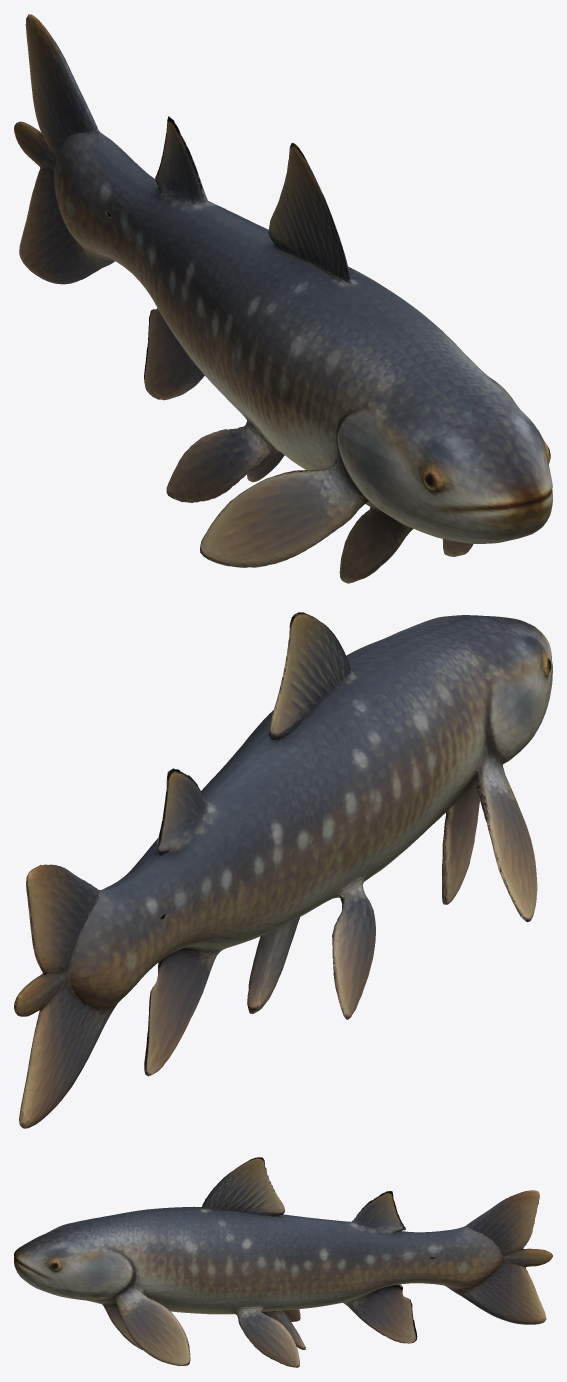
The picture shows the model from 3 angles, top to bottom: view 1: azimuth 30°, elevation 25°; view 2: azimuth 150°, elevation 25°; view 3: azimuth 270°, elevation 25°; orthographic projection. The views are drawn at different scales.
Visible parts, largest first — view 1: world; view 2: world; view 3: world.
Boxes of the visible parts, x1,y1,x2,y2 form: world: (14,14,552,583); world: (14,612,552,1128); world: (14,1157,552,1367).
Size of the model in its own units: 0.366 by 0.3935 by 0.9974.
1 material, 1 textured.
